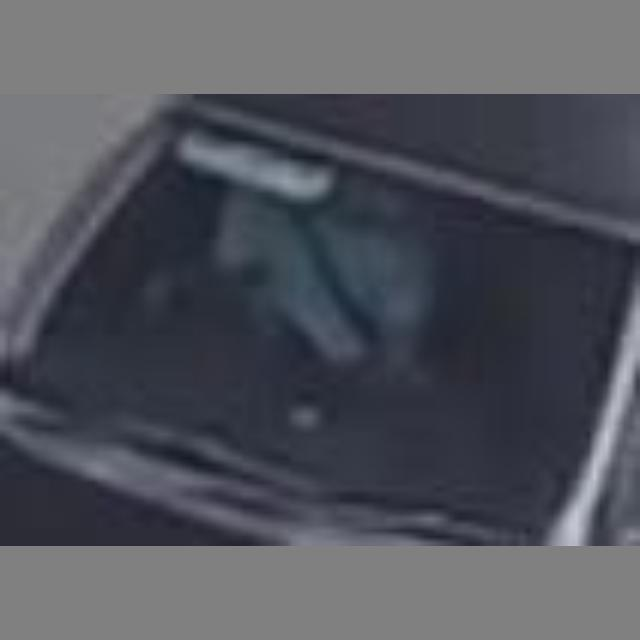pakai: (169, 148, 441, 390)
